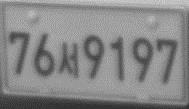1: (109, 35, 125, 82)
6: (32, 31, 56, 77)
7: (154, 37, 179, 85), (7, 30, 30, 76)
9: (131, 36, 154, 82), (82, 34, 105, 79)
서: (58, 40, 80, 80)
